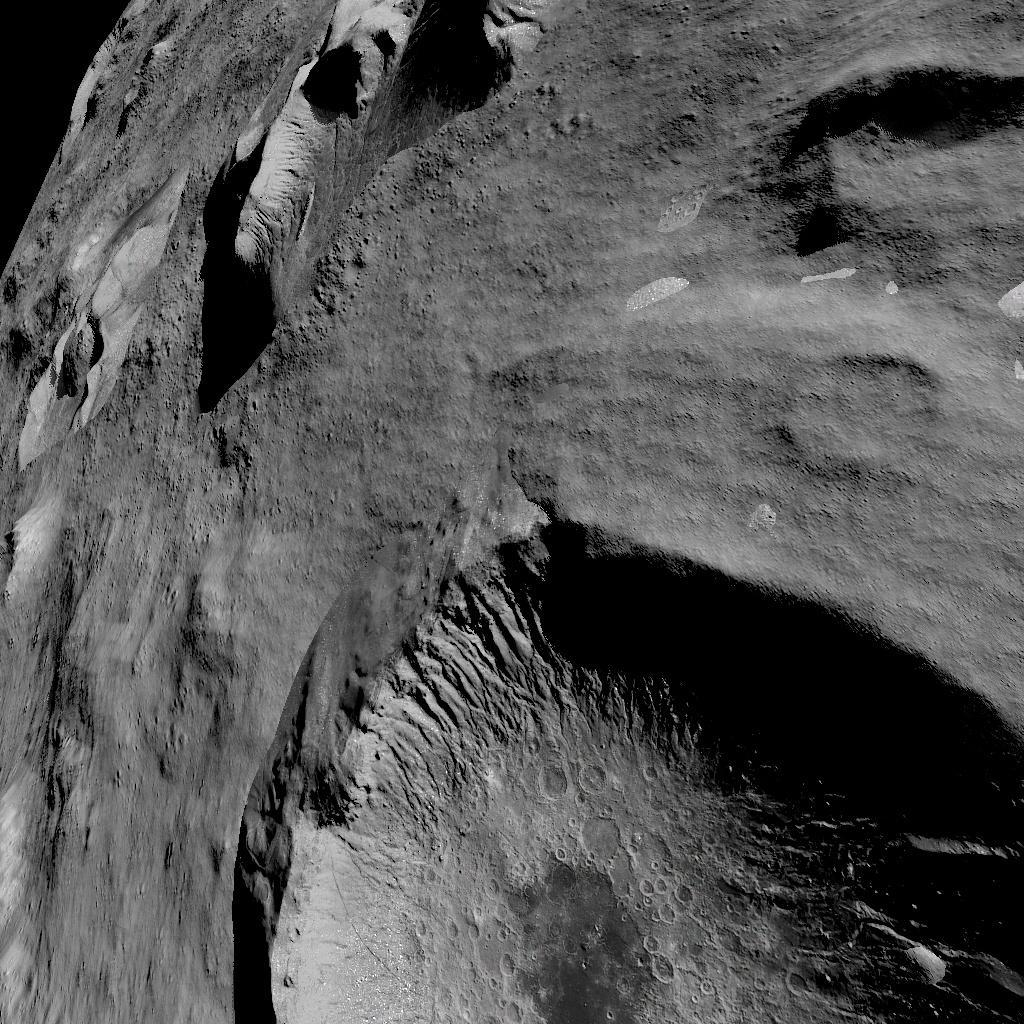Boulders: (190, 0, 556, 405), (3, 150, 176, 433)
Crater: (195, 506, 1024, 1024), (765, 56, 1024, 265), (766, 348, 935, 484)
Plan surface: (7, 450, 176, 1024)
